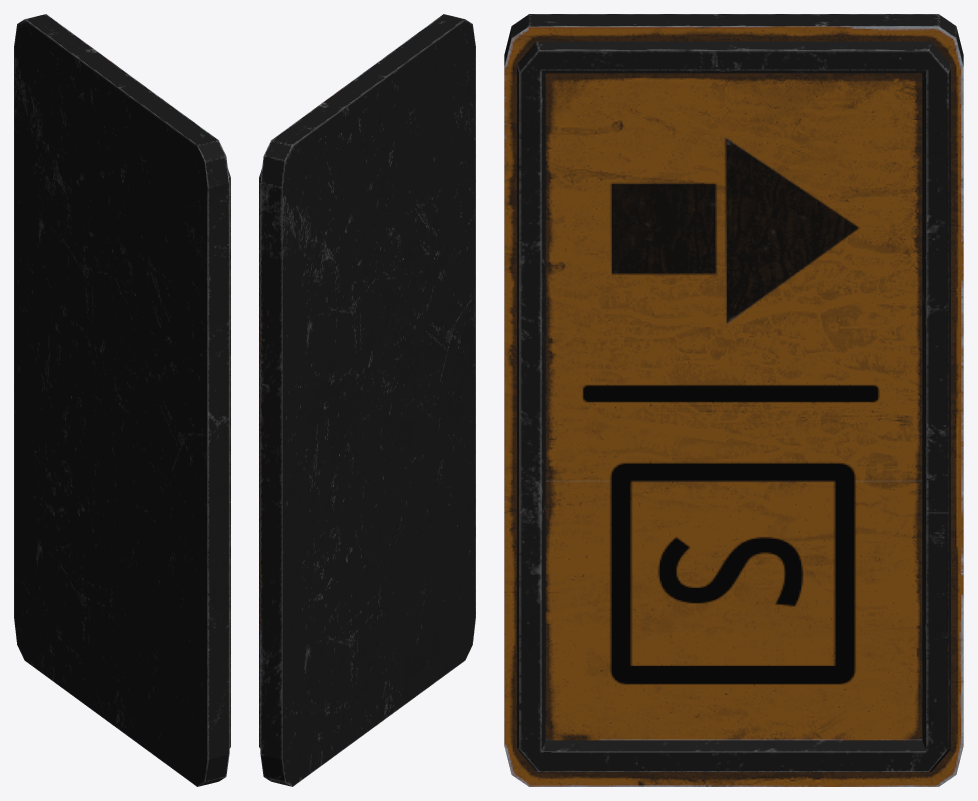
File: KeyboardDown.gltf
3 views of the same model, side by side, from view 1: azimuth 30°, elevation 25°; view 2: azimuth 150°, elevation 25°; view 3: azimuth 270°, elevation 25° (orthographic). The views are drawn at different scales.
Visible parts, largest first — view 1: Cube.013; view 2: Cube.013; view 3: Cube.013.
Part boxes in pixels (x1,y1,x2,y2): Cube.013: (14,14,230,786); Cube.013: (259,14,475,786); Cube.013: (504,14,963,786).
Bounding box in the file's own units: 0.1759 × 3.65 × 2.
Materials: 1 (1 with a texture image).
